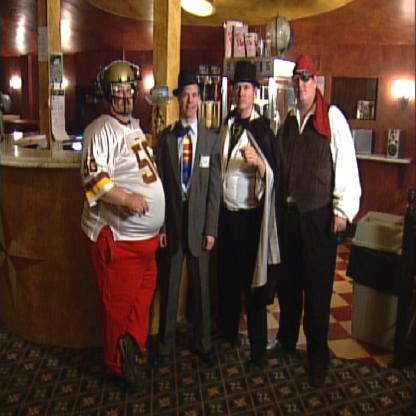Helmet: (95, 59, 140, 117)
